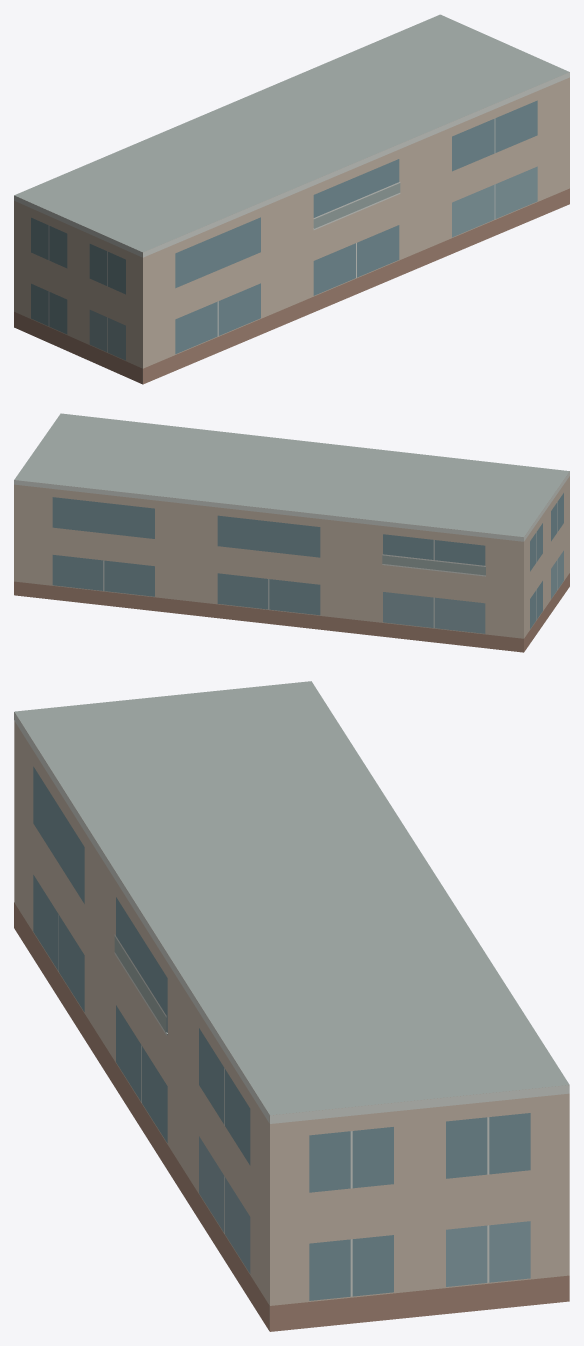
Rendered from survey-upis-32597466.glb.
3 views of the same model, one above another, from view 1: azimuth 30°, elevation 25°; view 2: azimuth 150°, elevation 25°; view 3: azimuth 270°, elevation 25° (orthographic). The views are drawn at different scales.
Parts seen in each view (by area): view 1: survey-upis-32597466.tmp; view 2: survey-upis-32597466.tmp; view 3: survey-upis-32597466.tmp.
Part boxes in pixels (bbox=[...]): survey-upis-32597466.tmp: bbox=[14, 14, 569, 384]; survey-upis-32597466.tmp: bbox=[14, 413, 569, 652]; survey-upis-32597466.tmp: bbox=[14, 681, 569, 1331].
Bounding box in the file's own units: 26.27 × 6.1 × 14.2.
